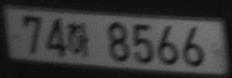4: (45, 17, 68, 57)
5: (132, 23, 155, 63)
6: (181, 25, 205, 67), (157, 24, 179, 66)
7: (22, 15, 41, 54)
8: (106, 21, 130, 61)
하: (69, 21, 89, 57)
